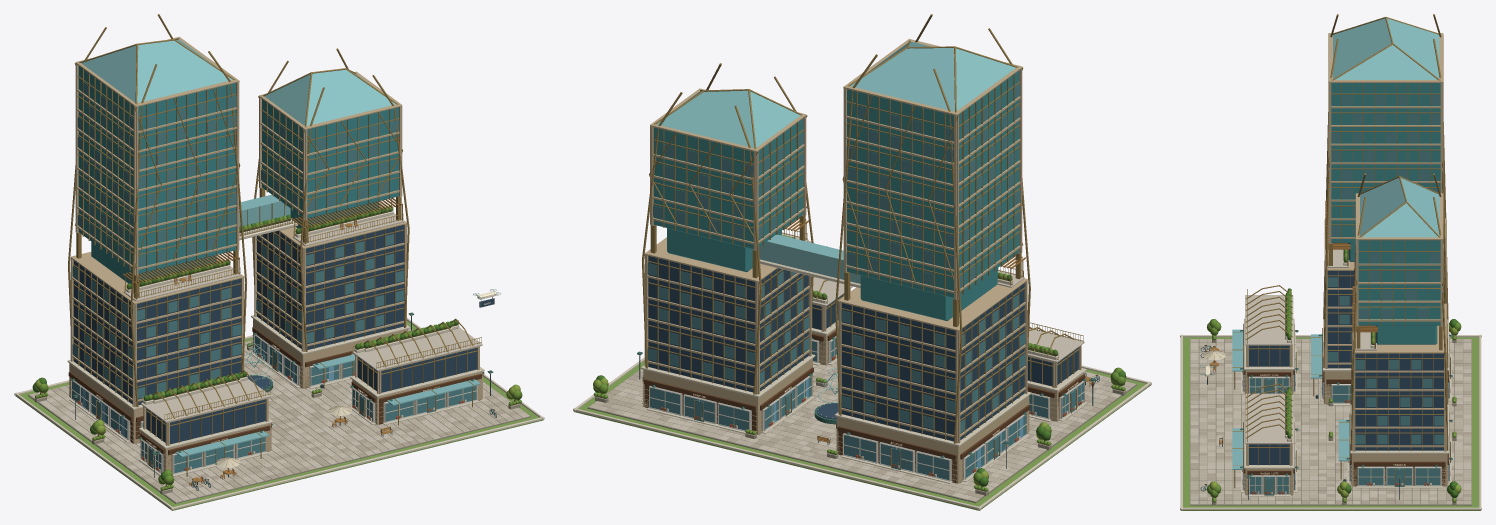
Rendered from level-9.glb.
The picture shows the model from 3 angles, left to right: view 1: azimuth 30°, elevation 25°; view 2: azimuth 150°, elevation 25°; view 3: azimuth 270°, elevation 25°; orthographic projection. The views are drawn at different scales.
Parts seen in each view (by area): view 1: finance_level_9_geometry; view 2: finance_level_9_geometry; view 3: finance_level_9_geometry.
Part boxes in pixels (<box>): finance_level_9_geometry: <box>14,14,544,510</box>; finance_level_9_geometry: <box>573,14,1151,510</box>; finance_level_9_geometry: <box>1180,14,1481,510</box>.
Bounding box in the file's own units: 60 × 57.12 × 44.
